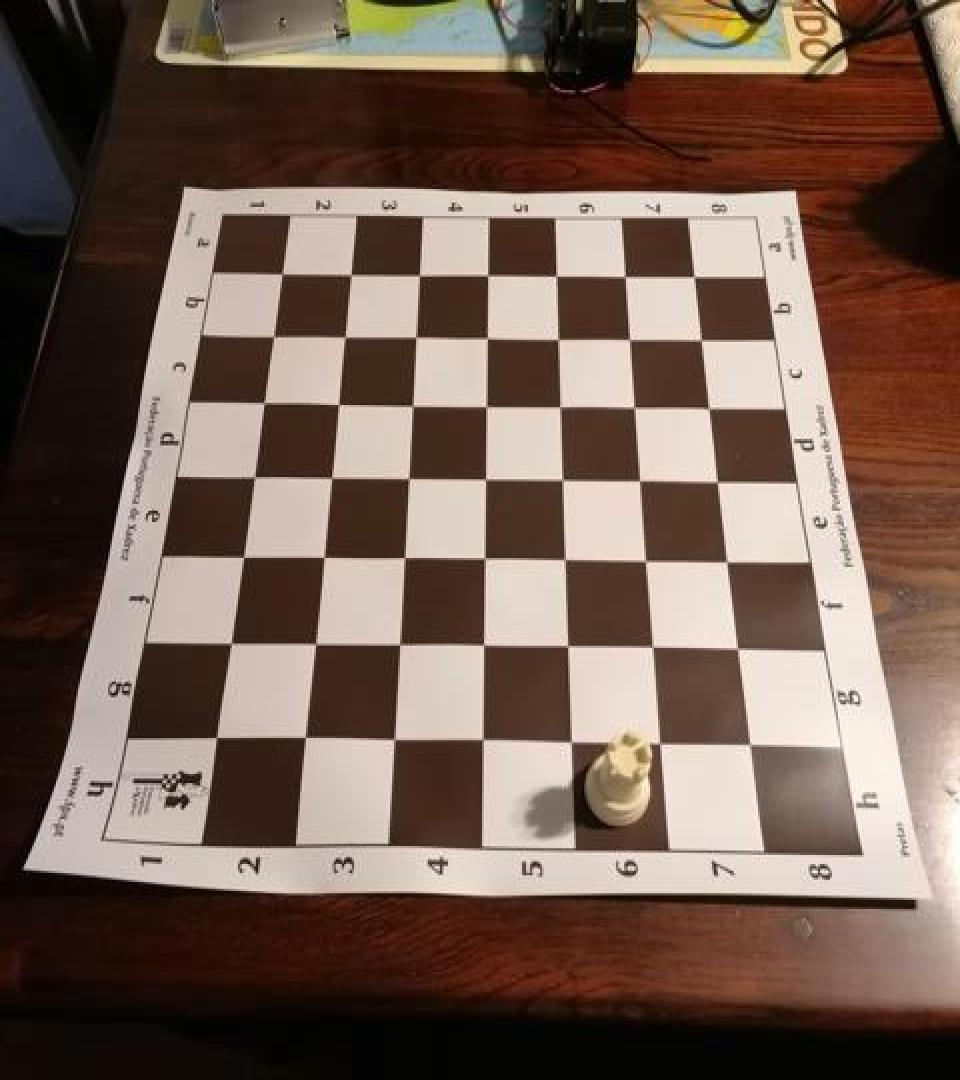xcorner: (629, 536, 661, 573), (635, 625, 667, 662), (208, 617, 240, 654), (679, 254, 711, 290), (610, 254, 642, 290), (540, 253, 572, 289), (472, 252, 504, 288), (403, 252, 435, 288), (335, 251, 367, 287), (266, 251, 298, 287), (686, 316, 718, 352), (614, 316, 646, 352), (542, 315, 574, 351), (470, 314, 502, 350), (399, 314, 431, 350), (328, 313, 360, 349), (257, 312, 289, 348), (544, 382, 576, 418), (469, 382, 501, 418), (394, 380, 426, 416), (320, 379, 352, 415), (246, 378, 278, 414), (702, 458, 734, 494), (624, 457, 656, 493), (545, 456, 577, 492), (467, 454, 499, 490), (389, 454, 421, 490), (312, 452, 344, 488), (234, 451, 266, 487), (712, 538, 744, 574), (547, 536, 579, 572), (465, 534, 497, 570), (384, 533, 416, 569), (303, 532, 335, 568), (222, 531, 254, 567), (722, 626, 754, 662), (549, 623, 581, 659), (463, 622, 495, 658), (378, 621, 410, 657), (293, 619, 325, 655), (733, 724, 765, 760), (642, 724, 674, 760), (552, 721, 584, 757), (461, 719, 493, 755), (371, 718, 403, 754), (282, 716, 314, 752), (192, 714, 224, 750), (694, 384, 726, 419), (619, 384, 651, 419)
